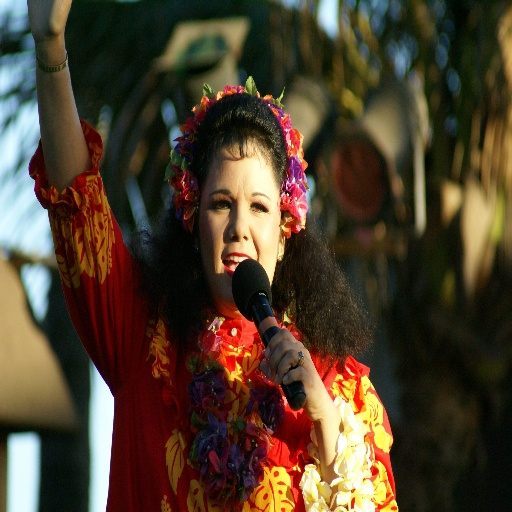hand: (252, 318, 323, 427), (25, 0, 73, 41)
